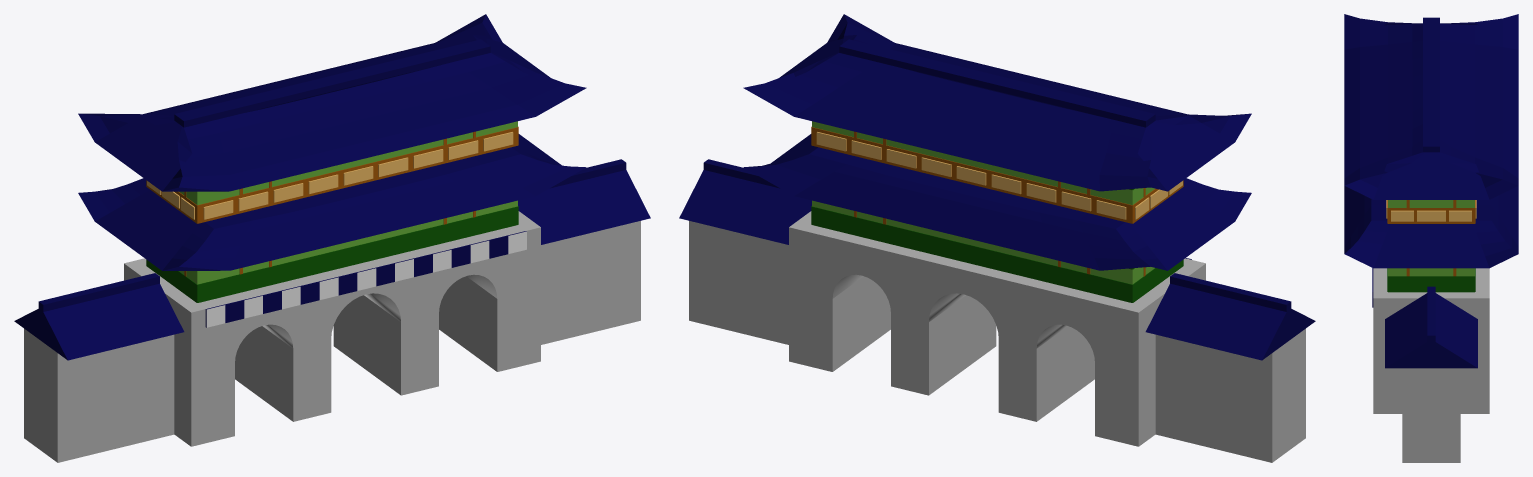
File: Gwanghwamun.glb
3 renders of one model, left to right at view 1: azimuth 30°, elevation 25°; view 2: azimuth 150°, elevation 25°; view 3: azimuth 270°, elevation 25°, orthographic. The views are drawn at different scales.
Parts seen in each view (by area): view 1: Cube, Cube.035, Cube.004, Cube.028, Cube.027, Cube.005, Cube.066, Cube.001, Cube.002, Cube.034, Cube.003, Cube.071; view 2: Cube, Cube.035, Cube.004, Cube.028, Cube.027, Cube.074, Cube.014, Cube.003, Cube.034, Cube.071; view 3: Cube.035, Cube.027, Cube.004, Cube, Cube.072, Cube.012, Cube.003, Cube.034, Cube.009.
Boxes of the visible parts, x1,y1,x2,y2 form: Cube: (124, 211, 540, 446); Cube.035: (78, 14, 586, 191); Cube.004: (78, 134, 586, 270); Cube.028: (14, 273, 184, 462); Cube.027: (518, 159, 650, 344); Cube.005: (197, 206, 518, 302); Cube.066: (197, 127, 518, 223); Cube.001: (205, 231, 526, 327); Cube.002: (206, 231, 526, 327); Cube.034: (179, 121, 517, 205); Cube.003: (179, 200, 517, 284); Cube.071: (146, 259, 197, 302); Cube: (789, 211, 1205, 446); Cube.035: (743, 14, 1251, 191); Cube.004: (743, 134, 1251, 270); Cube.028: (1145, 273, 1315, 462); Cube.027: (679, 159, 811, 344); Cube.074: (811, 206, 1132, 302); Cube.014: (811, 127, 1132, 223); Cube.003: (812, 200, 1154, 284); Cube.034: (812, 121, 1154, 205); Cube.071: (1132, 259, 1183, 302); Cube.035: (1344, 14, 1518, 199); Cube.027: (1385, 286, 1477, 462); Cube.004: (1344, 186, 1518, 268); Cube: (1373, 268, 1489, 413); Cube.072: (1388, 276, 1474, 292); Cube.012: (1391, 210, 1471, 221); Cube.003: (1388, 268, 1474, 276); Cube.034: (1388, 200, 1474, 207); Cube.009: (1388, 208, 1474, 223).
Size of the model in its own units: 10 by 4.91 by 3.
